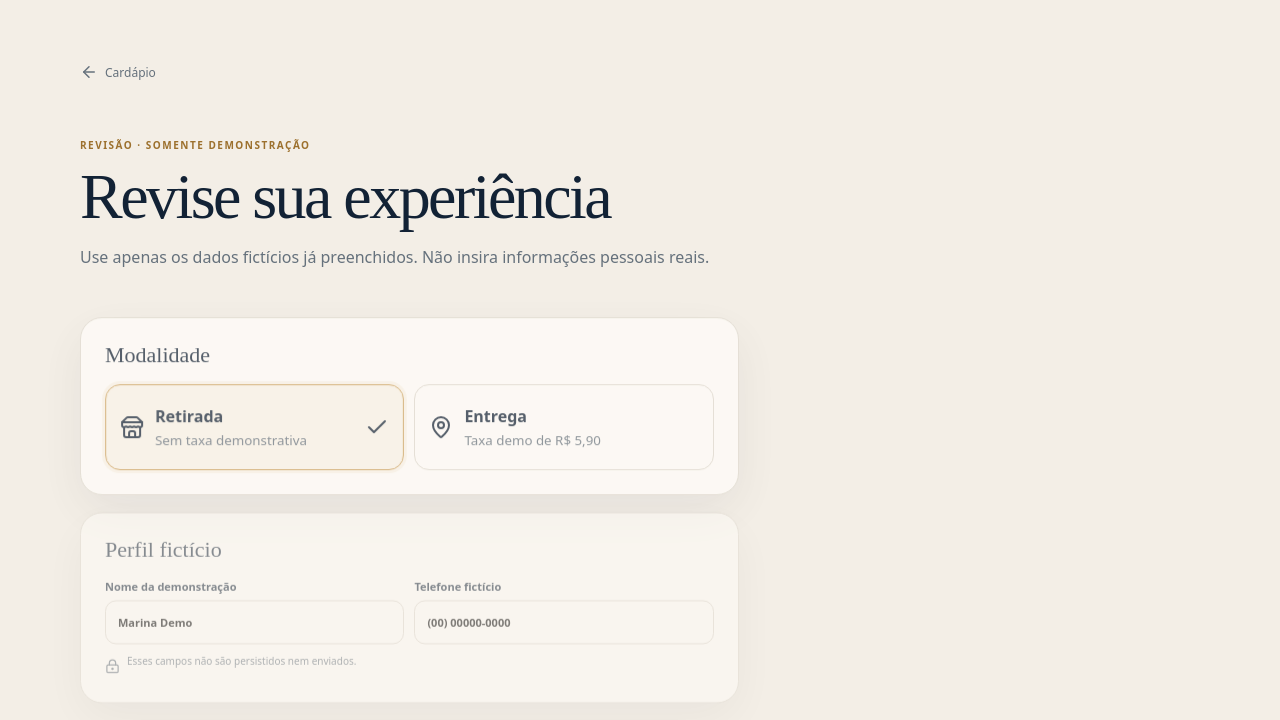
Test: validação acessível do checkout demonstrativo › associa mensagens aos campos inválidos e expõe um alerta textual
This screenshot has width=1280, height=720.
Clear the field labelled "Nome da demonstração" at [255, 622], box [105,600,404,644]
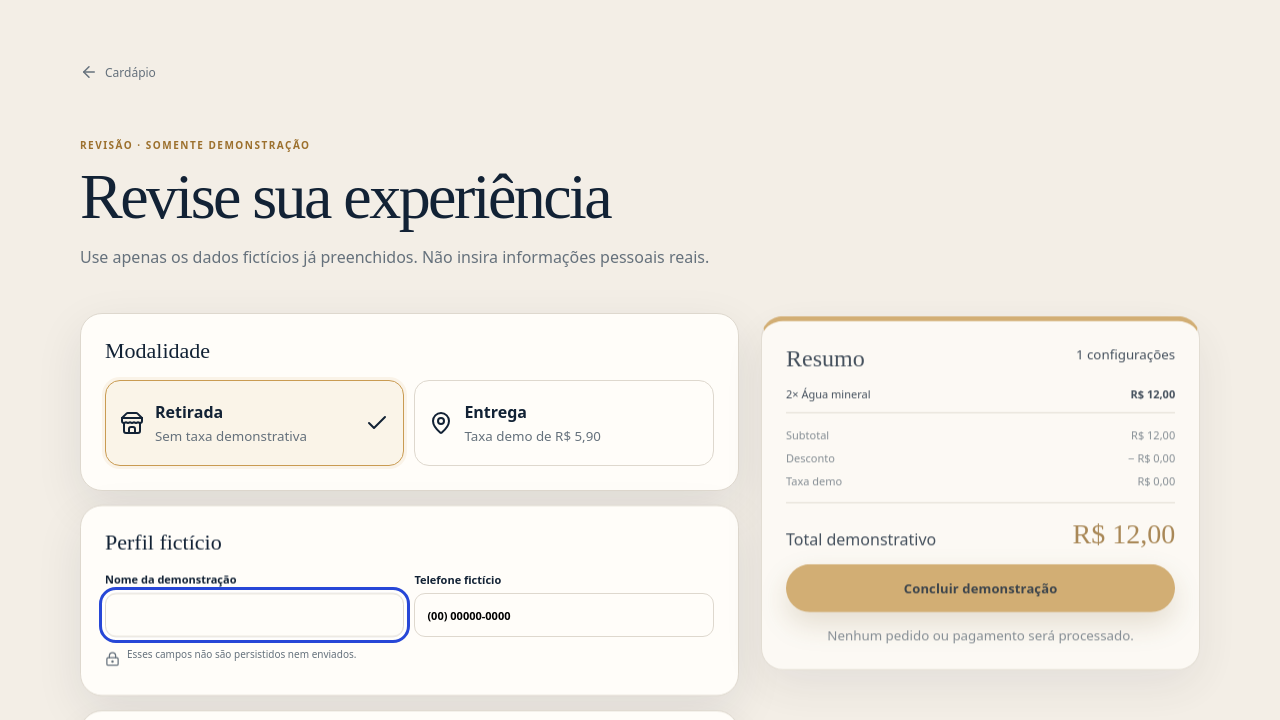
Clear the field labelled "Telefone fictício" at [564, 615], box [414,593,714,637]
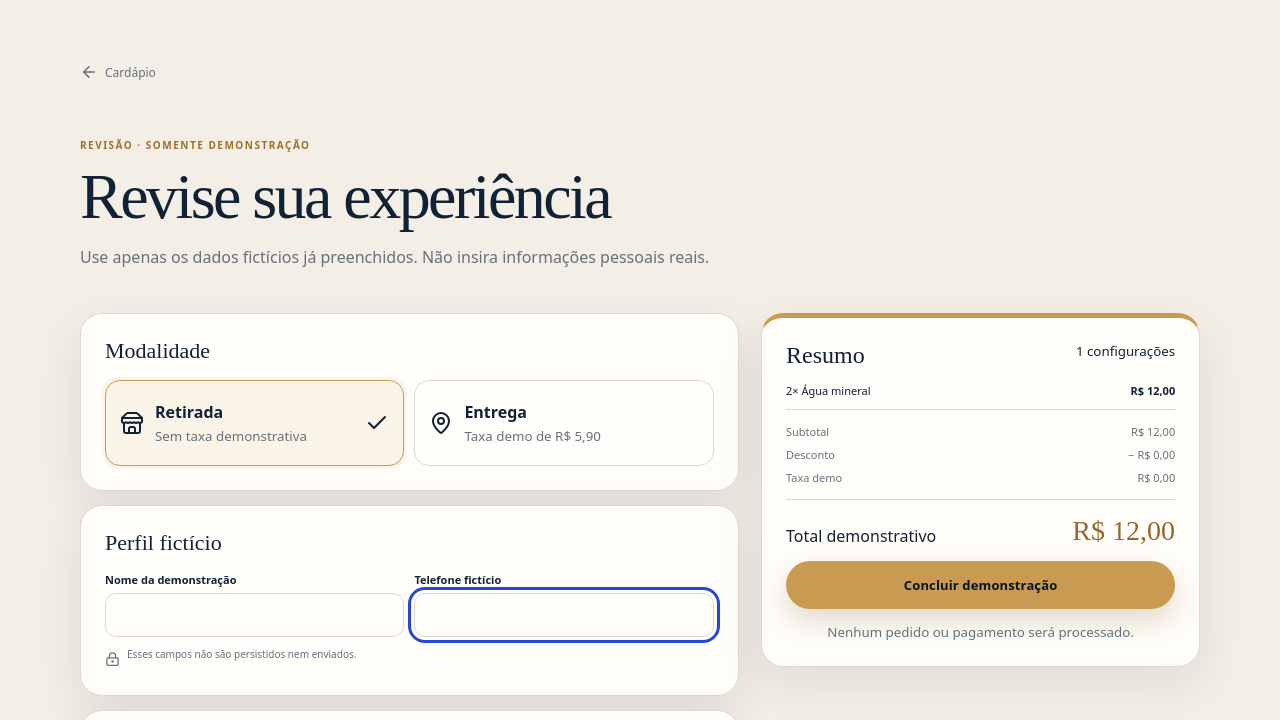
Click the button "Concluir demonstração" at [980, 585], box [786,561,1175,609]
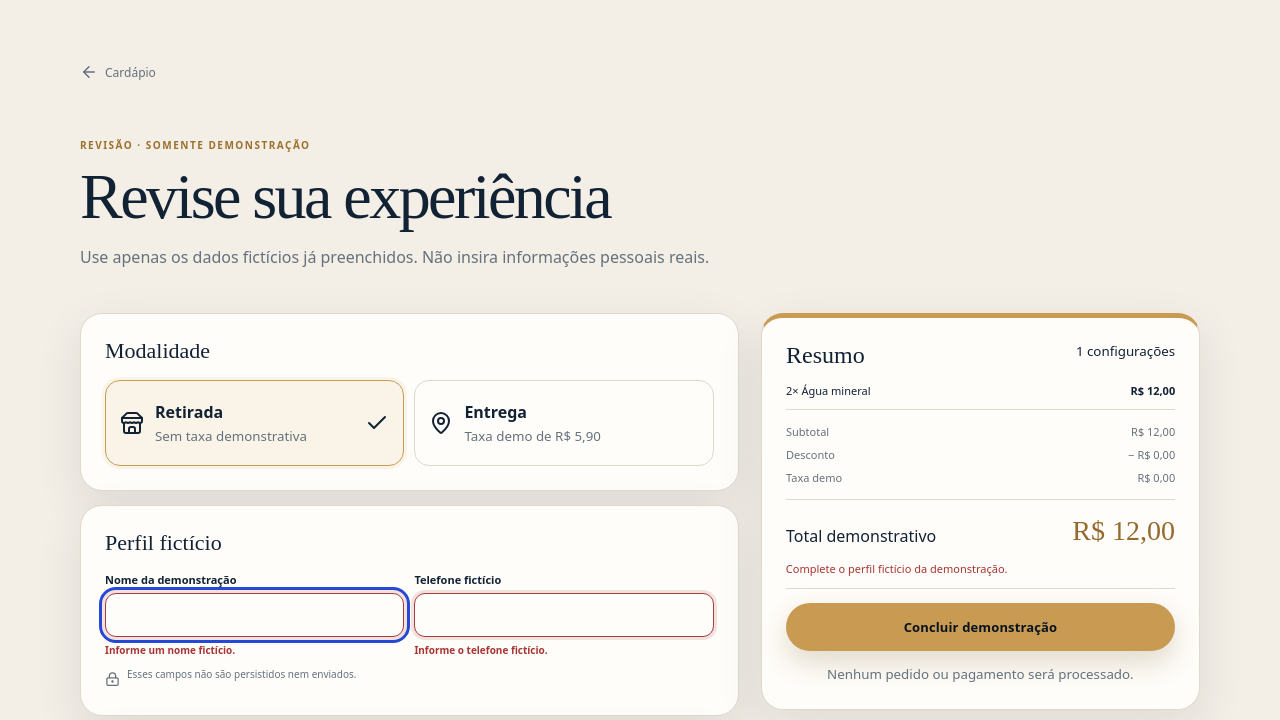
Expected: the message shows "Complete o perfil fictício", [786,561,1008,576]
